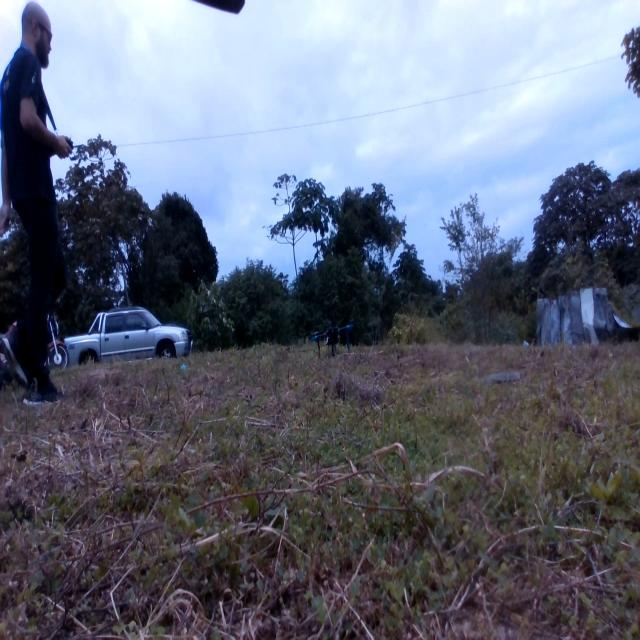-uav-: (309, 317, 358, 363)
